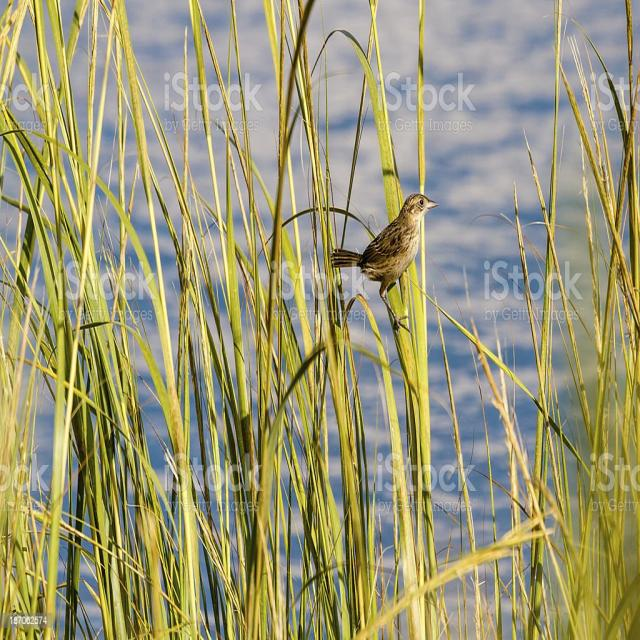bird: (340, 189, 424, 329)
